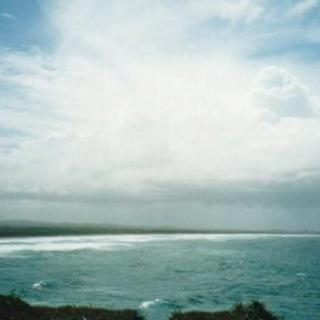Cirrostratus: (0, 0, 320, 214)
